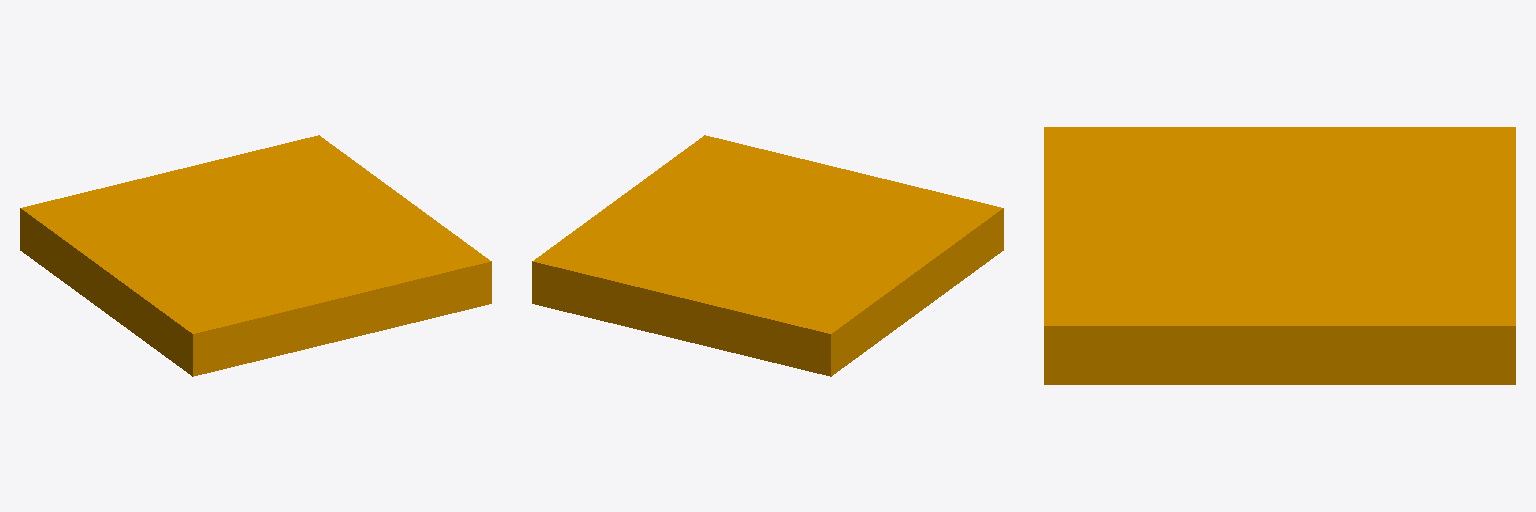
robot.urdf — apriltag_10_3611:
<robot name="apriltag_10_3611">

    <link name="apriltag_link_id10">
        <inertial>
            <origin xyz="0 0 0" rpy="0 0 0"/>
            <mass value="1.0"/>
            <inertia ixx="0.07461" ixy="0.0" ixz="0.0" iyy="0.5854" iyz="0.0" izz="0.02641"/>
        </inertial>
        <collision>
            <origin xyz="0 0 0" rpy="0 0 0"/>
            <geometry>
                <box size="0.2 0.2 0.1"/>
            </geometry>
        </collision>
        <visual>
            <origin xyz="0 0 0" rpy="0 0 0"/>
            <geometry>
                <mesh filename="package://apriltag_description/meshes/apriltag_10.dae"/>
            </geometry>
        </visual>
    </link>
    
    <gazebo reference="apriltag_link_id10">
        <kp>100000.0</kp>
        <kd>100000.0</kd>
        <mu1>0.1</mu1>
        <mu2>0.1</mu2>  
        <fdir1>1 0 0</fdir1>

           <!-- this tag may be unecessary if static is set to true
            (but using since may set static to false later)-->
        <gravity>0</gravity>
    </gazebo>

    <!-- Make sure that the reference="" attribute is not specified -->
    <gazebo>
        <static>true</static>
     
        
    </gazebo>
    

</robot>

--- Render facts (derived) ---
3 views of the same robot in one strip: view 1: azimuth 30°, elevation 25°; view 2: azimuth 150°, elevation 25°; view 3: azimuth 270°, elevation 25° (orthographic).
Model apriltag_10_3611 with 1 links and 0 joints (none), rooted at apriltag_link_id10, posed every joint at zero.
Visible links, largest first — view 1: apriltag_link_id10; view 2: apriltag_link_id10; view 3: apriltag_link_id10.
Boxes of the visible links, x1=… form: apriltag_link_id10: x1=20, y1=135, x2=491, y2=376; apriltag_link_id10: x1=532, y1=135, x2=1003, y2=376; apriltag_link_id10: x1=1044, y1=127, x2=1515, y2=384.
Bounding box of the posed robot: 0.16 × 0.16 × 0.0218 m (x, y, z).
1 mesh visuals loaded from 1 distinct referenced files (1 Collada DAE).